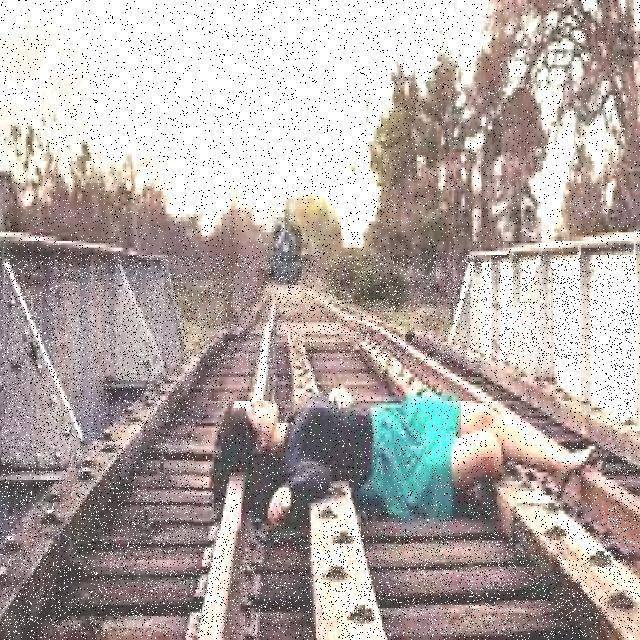danger: (194, 364, 606, 531)
rail: (1, 255, 635, 638)
